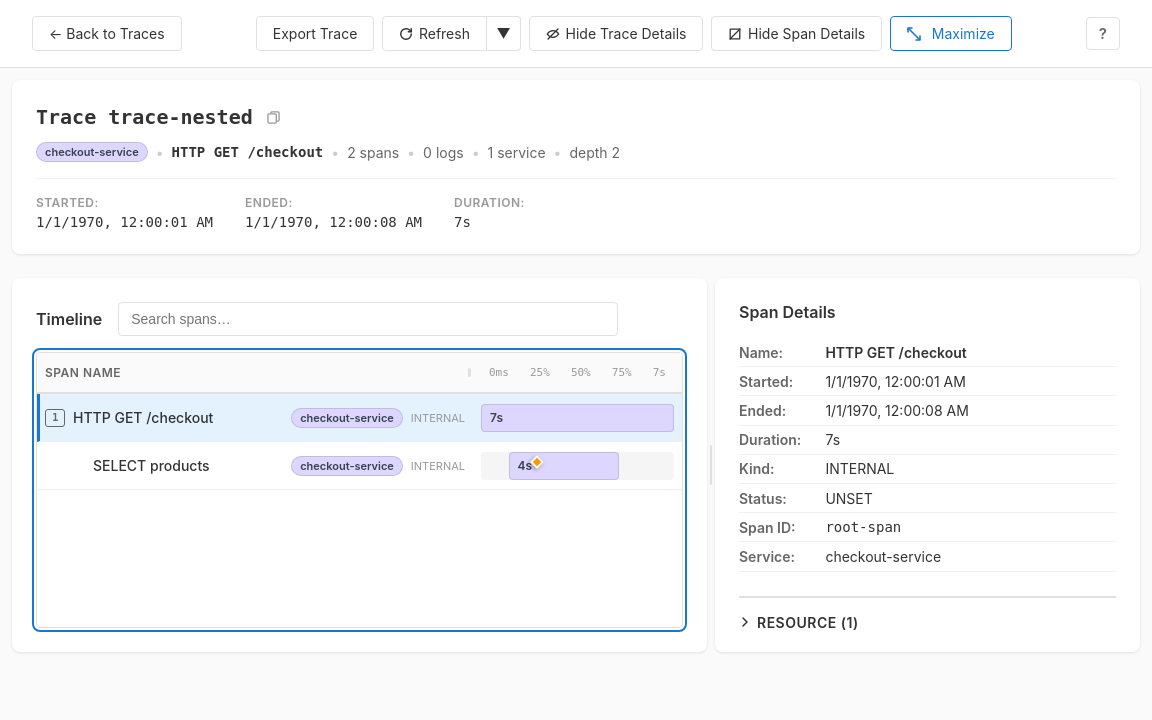
Test: shows a no-match message when span search has zero results
Type "this-query-does-not-match-any-span" into the field with placeholder "Search spans…".
click(368, 319); type("this-query-does-not-match-any-span")  # box [118, 302, 618, 336]
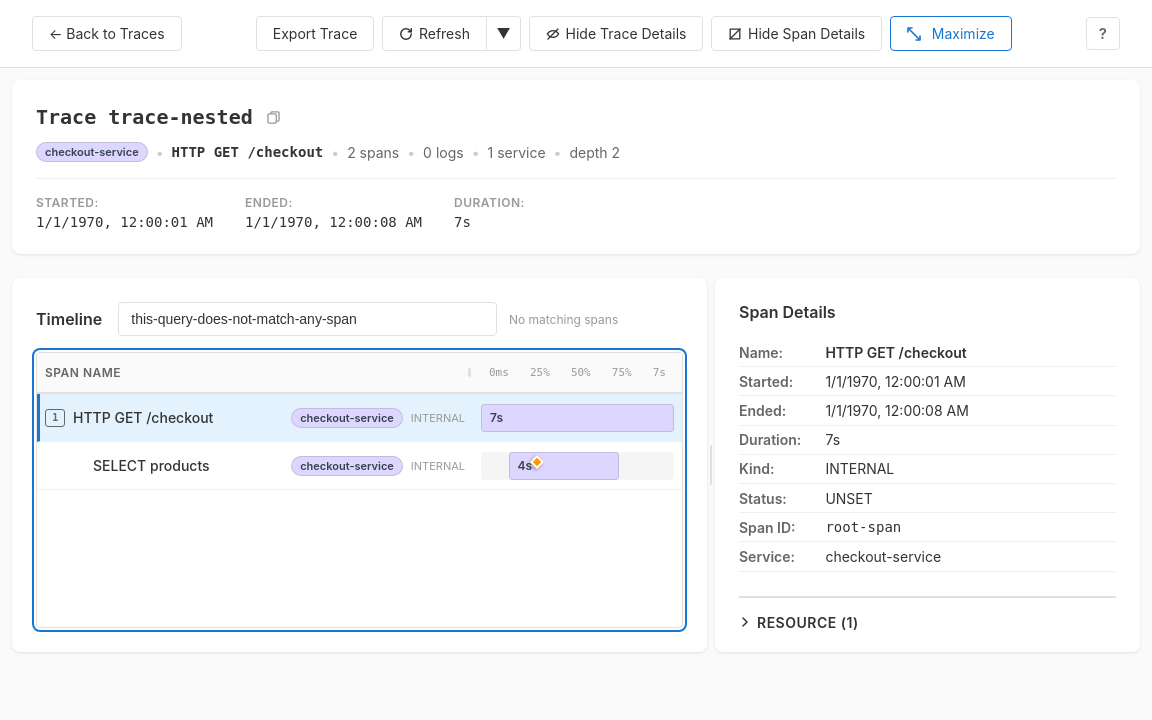
Expected: the text "No matching spans" is shown, [509, 312, 618, 326]
